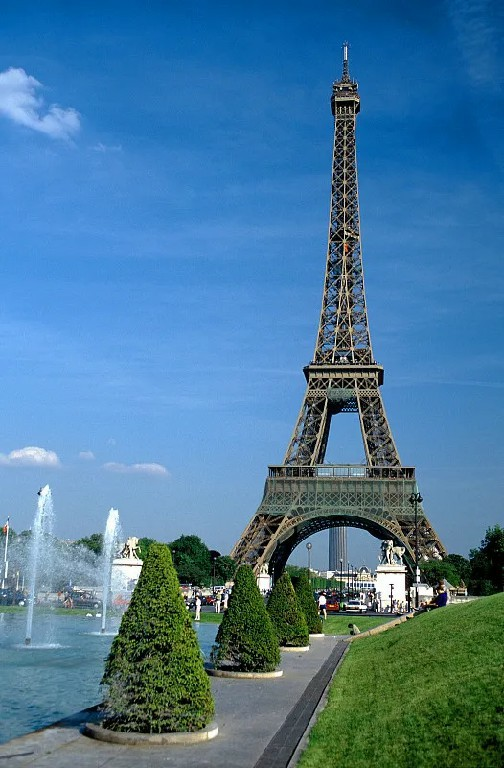Eiffel: (229, 41, 454, 603)
